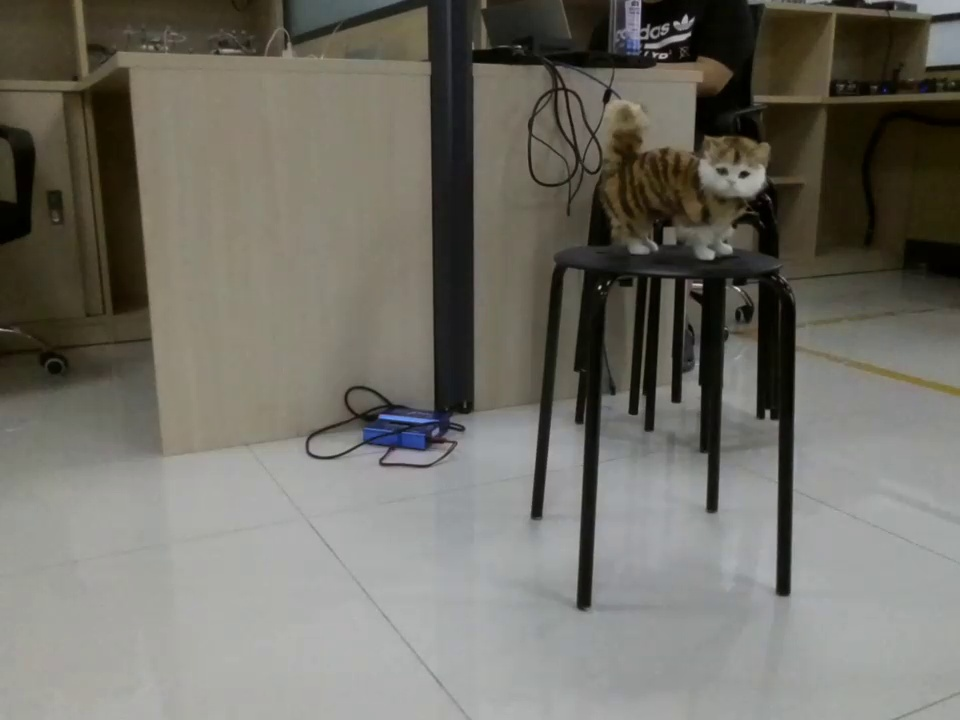cat: (599, 96, 776, 264)
